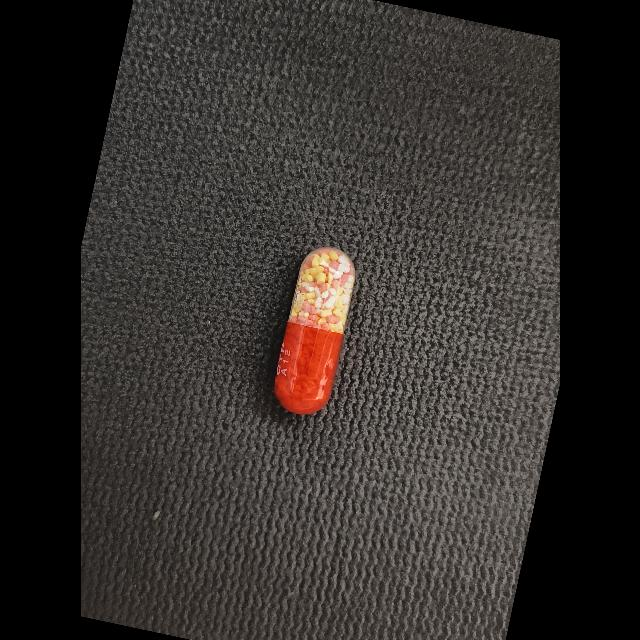Intact Capsule: (274, 247, 355, 414)
